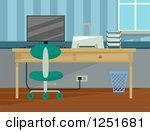chair: (24, 44, 64, 101)
tvmonitor: (21, 11, 67, 45)
